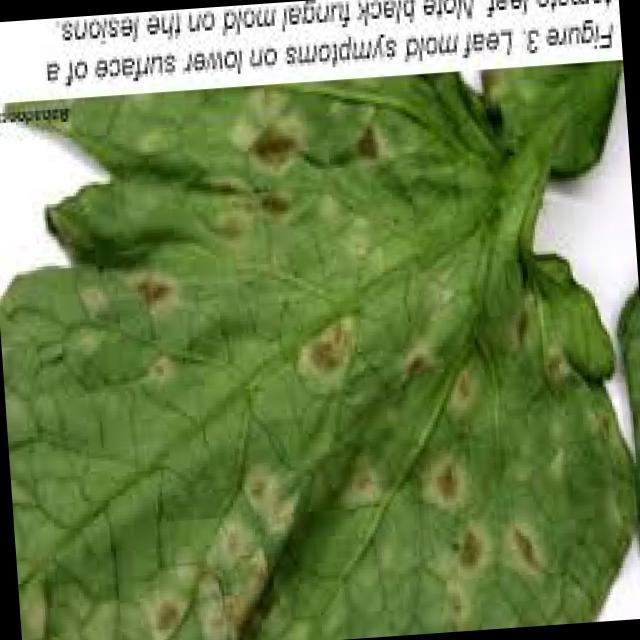Mosaic Virus: (0, 91, 617, 640)
